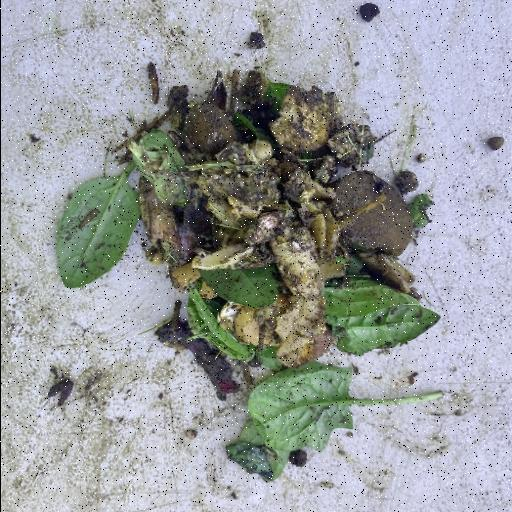Waste: (54, 60, 444, 482)
